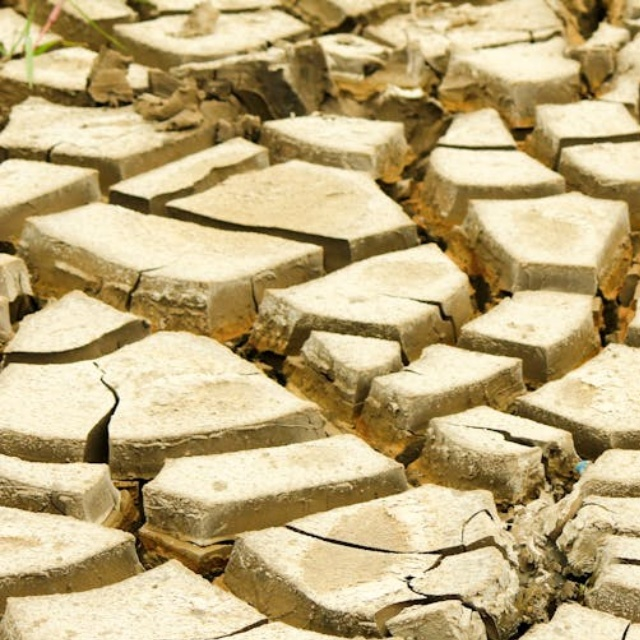深大裂缝: (0, 197, 572, 592), (97, 0, 619, 257)
